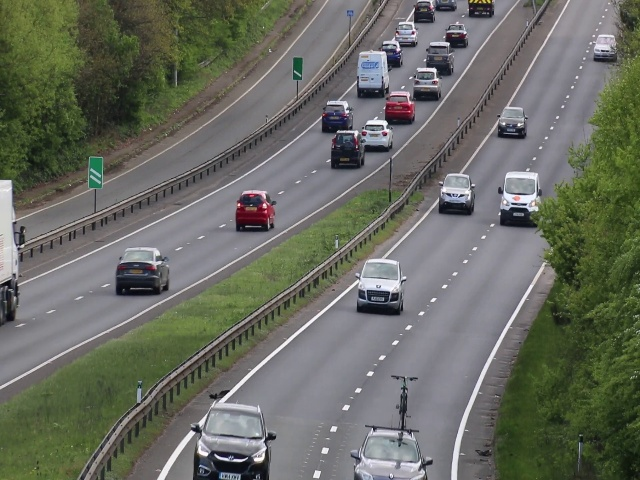car: (193, 400, 272, 480), (352, 431, 431, 480), (355, 255, 406, 316), (114, 248, 172, 294), (501, 168, 539, 226), (1, 230, 22, 319), (236, 189, 275, 235), (331, 127, 367, 172), (357, 48, 390, 97), (439, 171, 473, 217), (382, 88, 417, 123), (410, 65, 443, 100), (362, 116, 394, 150), (495, 103, 526, 137), (319, 100, 354, 130), (426, 41, 454, 73), (395, 16, 417, 47), (591, 34, 611, 63), (385, 35, 402, 69), (446, 21, 469, 46), (415, 1, 433, 25)
